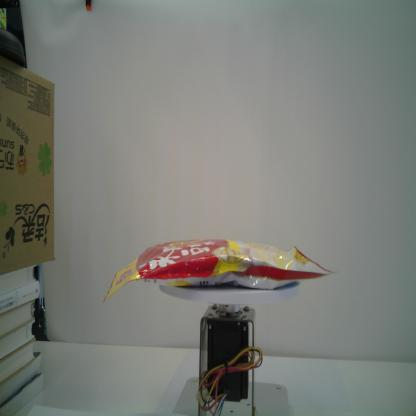Instant Drink: (101, 236, 338, 303)
